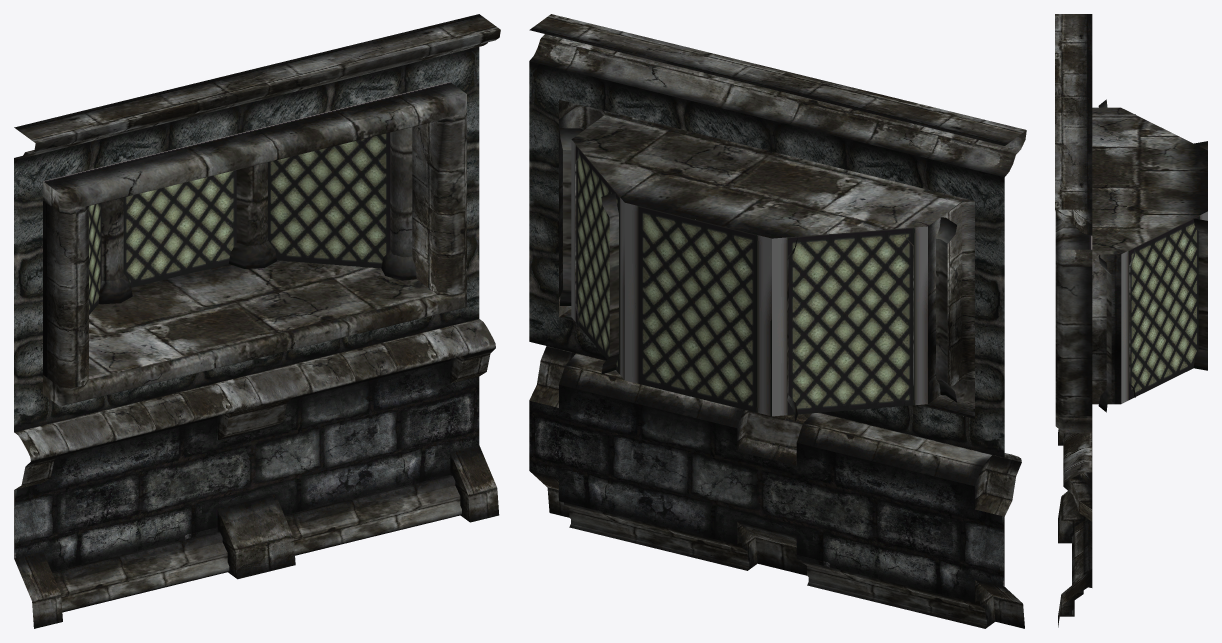
The model's file is window02_yellow.dae.
3 renders of one model, left to right at view 1: azimuth 30°, elevation 25°; view 2: azimuth 150°, elevation 25°; view 3: azimuth 270°, elevation 25°, orthographic. The views are drawn at different scales.
Parts seen in each view (by area): view 1: polySurface111, polySurface116, polySurface117, pCylinder5, pCylinder2, pCylinder3; view 2: polySurface111, polySurface117, polySurface116, pCylinder4, pCylinder5, pCylinder2; view 3: polySurface116, polySurface111, polySurface117, pCylinder2, pCylinder5.
Part boxes in pixels (box(x1,y1,x2,y2)): polySurface111: box(14, 14, 500, 628); polySurface116: box(43, 82, 466, 406); polySurface117: box(89, 132, 390, 314); pCylinder5: box(381, 127, 416, 280); pCylinder2: box(228, 162, 276, 268); pCylinder3: box(98, 197, 132, 304); polySurface111: box(529, 14, 1026, 628); polySurface117: box(571, 139, 927, 416); polySurface116: box(559, 99, 974, 418); pCylinder4: box(904, 217, 956, 405); pCylinder5: box(559, 128, 583, 327); pCylinder2: box(601, 192, 618, 374); polySurface116: box(1055, 107, 1207, 433); polySurface111: box(1055, 14, 1092, 627); polySurface117: box(1121, 211, 1207, 403); pCylinder2: box(1193, 218, 1207, 370); pCylinder5: box(1098, 248, 1135, 412).
Size of the model in its own units: 4 by 4 by 1.32.
